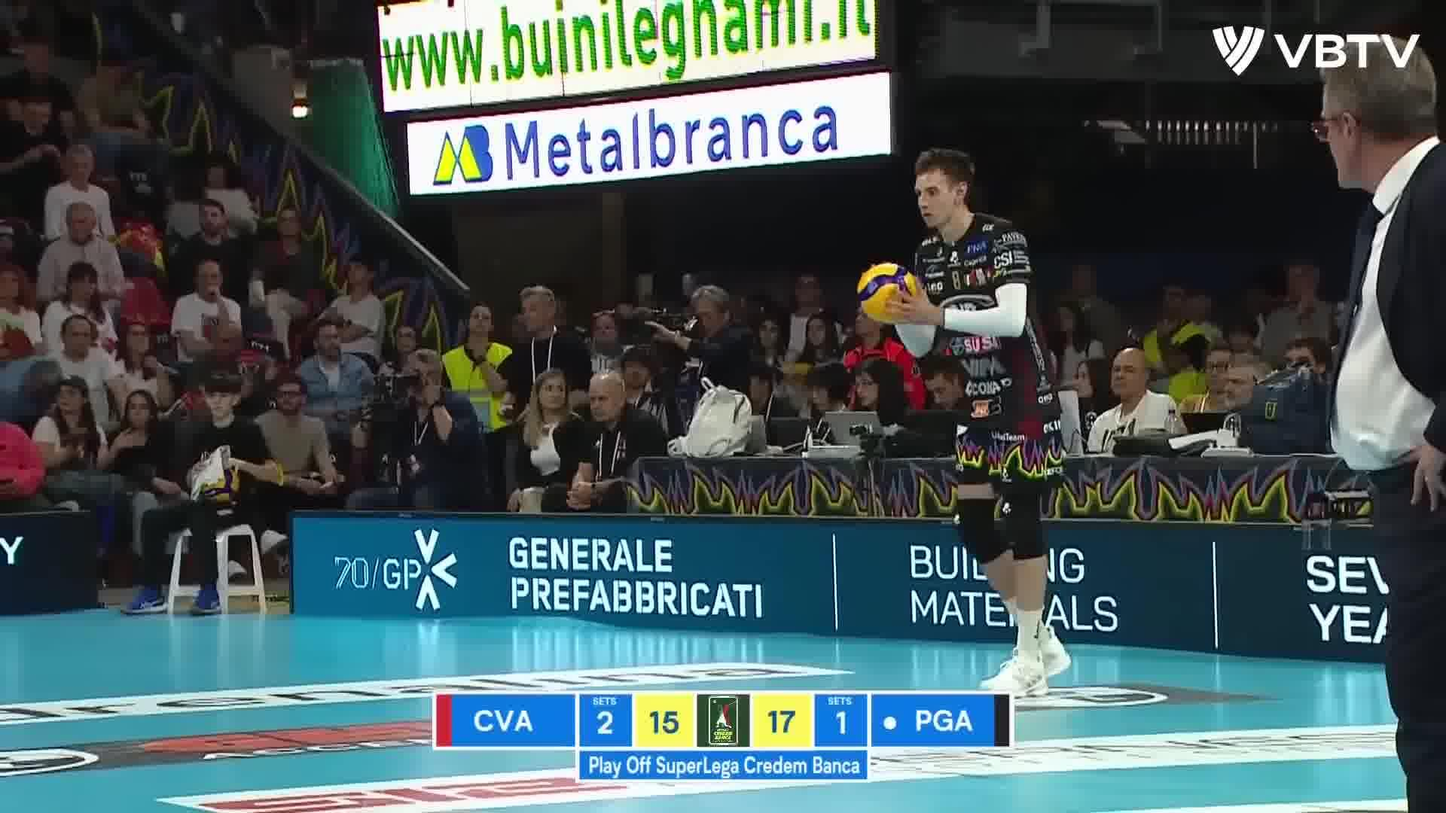balls: (856, 260, 920, 327)
